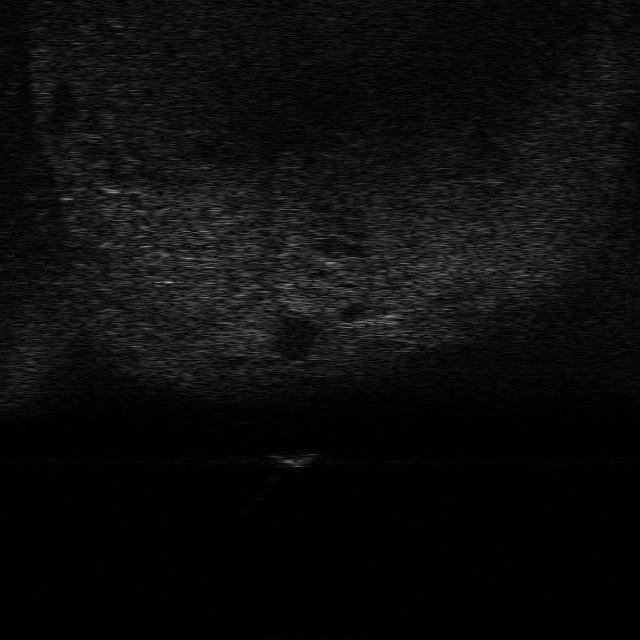cube: (266, 448, 320, 469)
